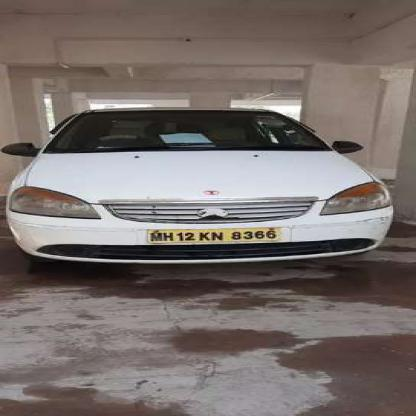license_plate: (146, 226, 278, 244)
